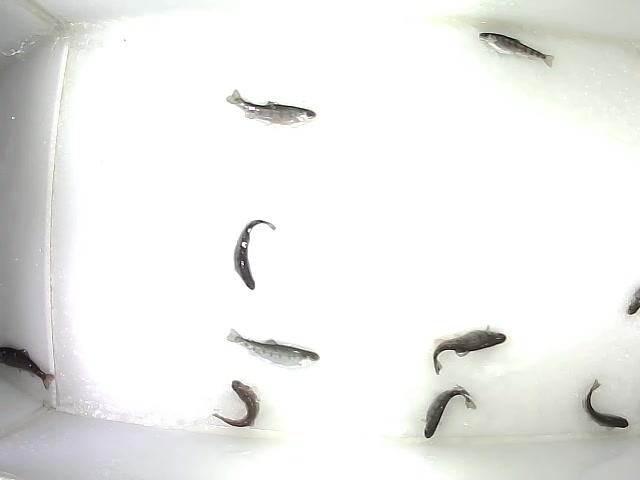fish: (224, 87, 318, 131), (225, 327, 320, 370), (431, 324, 508, 376), (232, 218, 277, 291), (420, 384, 477, 441), (478, 32, 555, 68), (581, 378, 630, 432), (209, 379, 261, 429)
